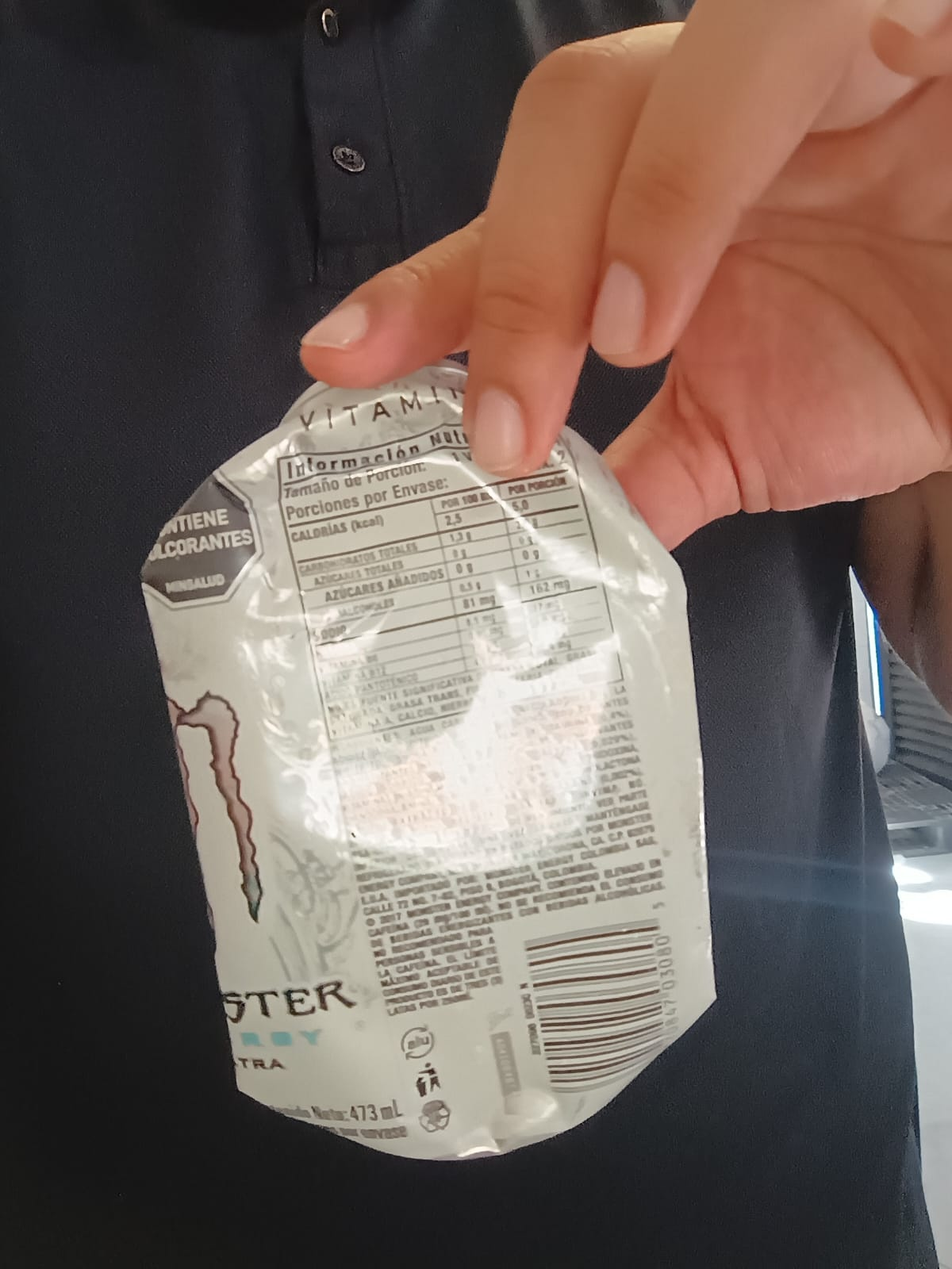Metal: (147, 350, 722, 1159)
